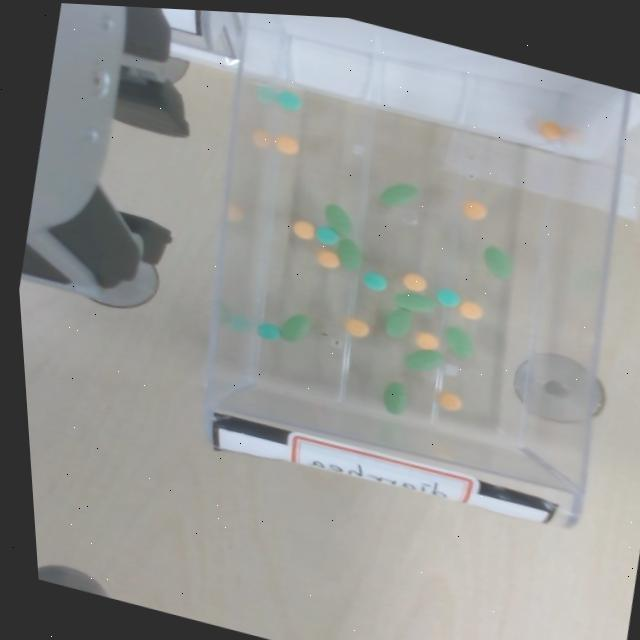famodine: (361, 267, 389, 292), (314, 222, 340, 246), (278, 87, 303, 111), (436, 285, 460, 308), (256, 320, 282, 341), (363, 271, 388, 290), (276, 91, 302, 109), (436, 288, 461, 306), (316, 226, 339, 244), (258, 323, 281, 339)
otillen_tab: (379, 176, 420, 213), (403, 342, 445, 377), (441, 322, 477, 361), (480, 242, 516, 280), (322, 201, 357, 239), (278, 308, 312, 345), (395, 287, 438, 316), (334, 236, 366, 273), (382, 303, 413, 341), (380, 379, 411, 417), (445, 326, 474, 358), (484, 246, 512, 278), (325, 204, 353, 236), (380, 183, 418, 206), (384, 308, 413, 337), (383, 382, 408, 414), (406, 349, 444, 370), (336, 239, 362, 269), (396, 292, 436, 311), (281, 314, 310, 340)
samsung_octylonium_tab: (344, 315, 370, 338), (463, 197, 487, 221), (539, 118, 563, 142), (438, 389, 463, 412), (402, 271, 428, 293), (537, 121, 566, 140), (316, 247, 339, 270), (292, 217, 315, 240), (276, 133, 300, 155), (458, 299, 483, 320), (415, 329, 439, 350), (463, 199, 488, 219), (458, 301, 483, 320), (403, 272, 428, 291), (316, 249, 341, 268), (275, 135, 300, 154), (415, 331, 440, 350), (292, 220, 316, 239), (346, 318, 370, 337), (439, 391, 462, 410)
